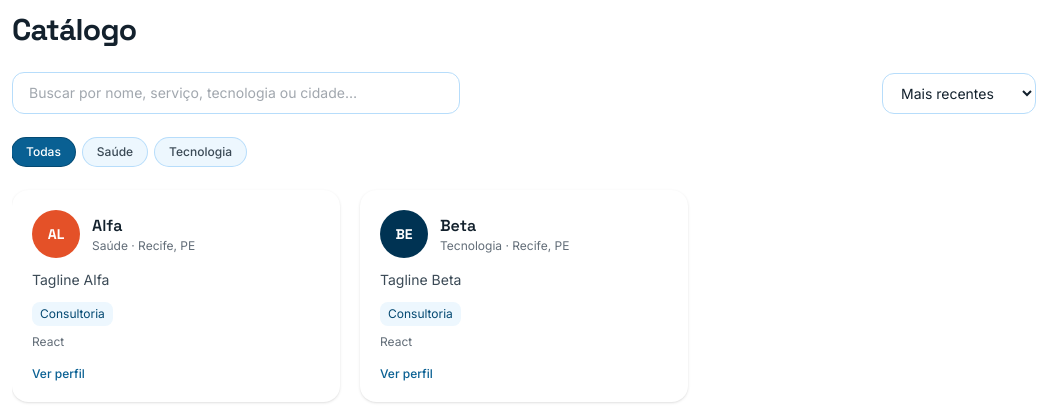
Test case: MuralStartups › lista as outras startups, sem a própria, e filtra por área
Expected: the heading "Alfa" is shown, [92,215,122,236]
Click the button "Saúde".
click(115, 152)  # box [83,138,147,166]
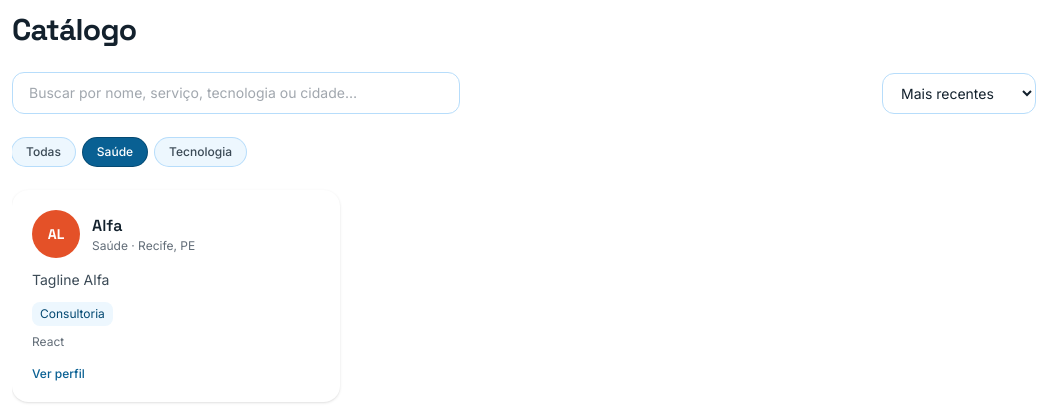
Expected: the heading "Alfa" is shown, [92,215,122,236]
Expected: the button "Beta" is gone
